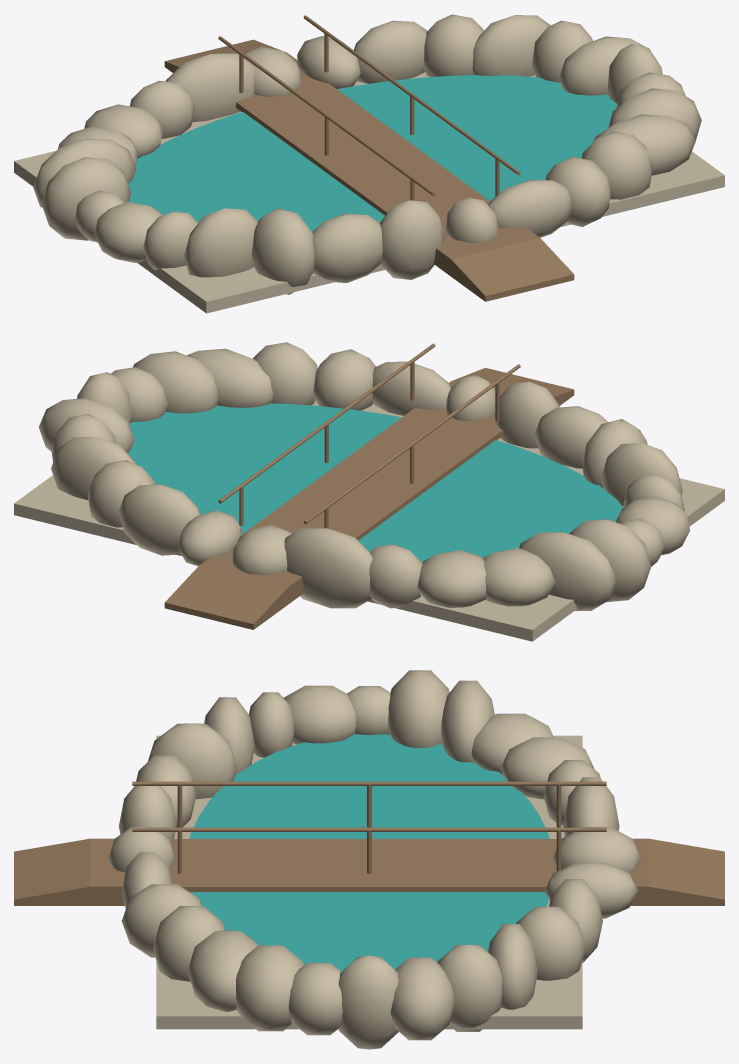
The model's file is river.glb.
The picture shows the model from 3 angles, top to bottom: view 1: azimuth 30°, elevation 25°; view 2: azimuth 150°, elevation 25°; view 3: azimuth 270°, elevation 25°; orthographic projection. The views are drawn at different scales.
Visible parts, largest first — view 1: sandstone, water, wood; view 2: sandstone, water, wood; view 3: sandstone, water, wood.
Part boxes in pixels (box(x1,y1,x2,y2)): sandstone: box(14, 14, 724, 313); water: box(128, 75, 617, 231); wood: box(164, 15, 574, 301); sandstone: box(14, 342, 724, 641); water: box(127, 403, 622, 562); wood: box(164, 343, 574, 629); sandstone: box(108, 670, 641, 1049); water: box(189, 734, 549, 971); wood: box(14, 781, 724, 905).
Bounding box in the file's own units: 16.27 × 2.34 × 15.
